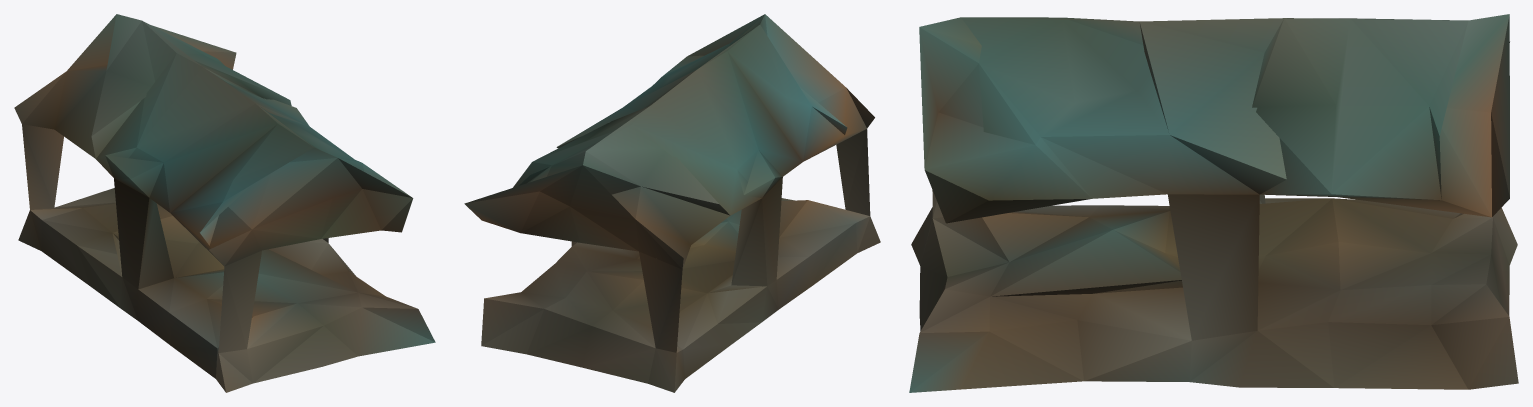
The model's file is fish-market.glb.
The picture shows the model from 3 angles, left to right: view 1: azimuth 30°, elevation 25°; view 2: azimuth 150°, elevation 25°; view 3: azimuth 270°, elevation 25°; orthographic projection. The views are drawn at different scales.
Visible parts, largest first — view 1: fish-market-far; view 2: fish-market-far; view 3: fish-market-far.
Part boxes in pixels (bbox=[...]): fish-market-far: bbox=[14, 14, 435, 392]; fish-market-far: bbox=[464, 14, 880, 392]; fish-market-far: bbox=[909, 14, 1518, 392].
Bounding box in the file's own units: 6.63 × 5.92 × 10.81.
